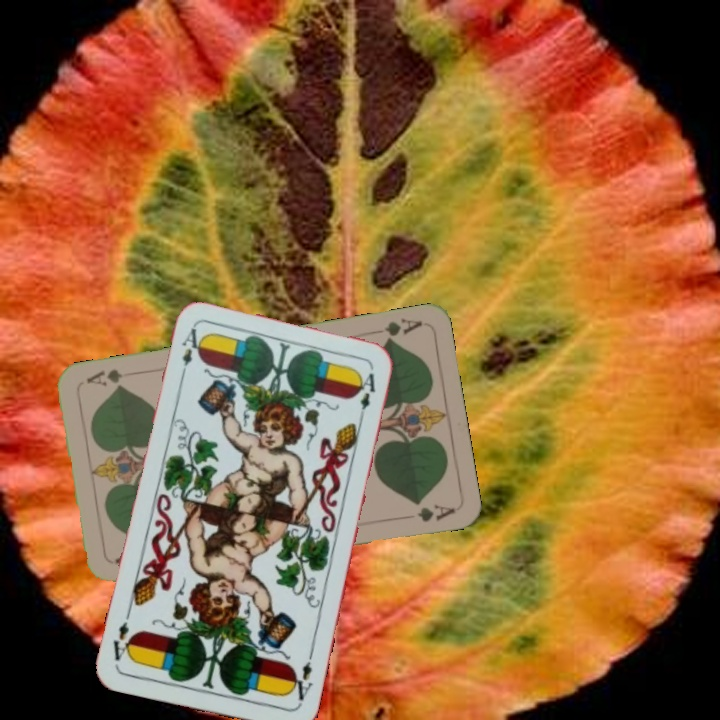EA: (286, 648, 316, 707), (176, 324, 205, 382)
GA: (380, 314, 425, 345)
